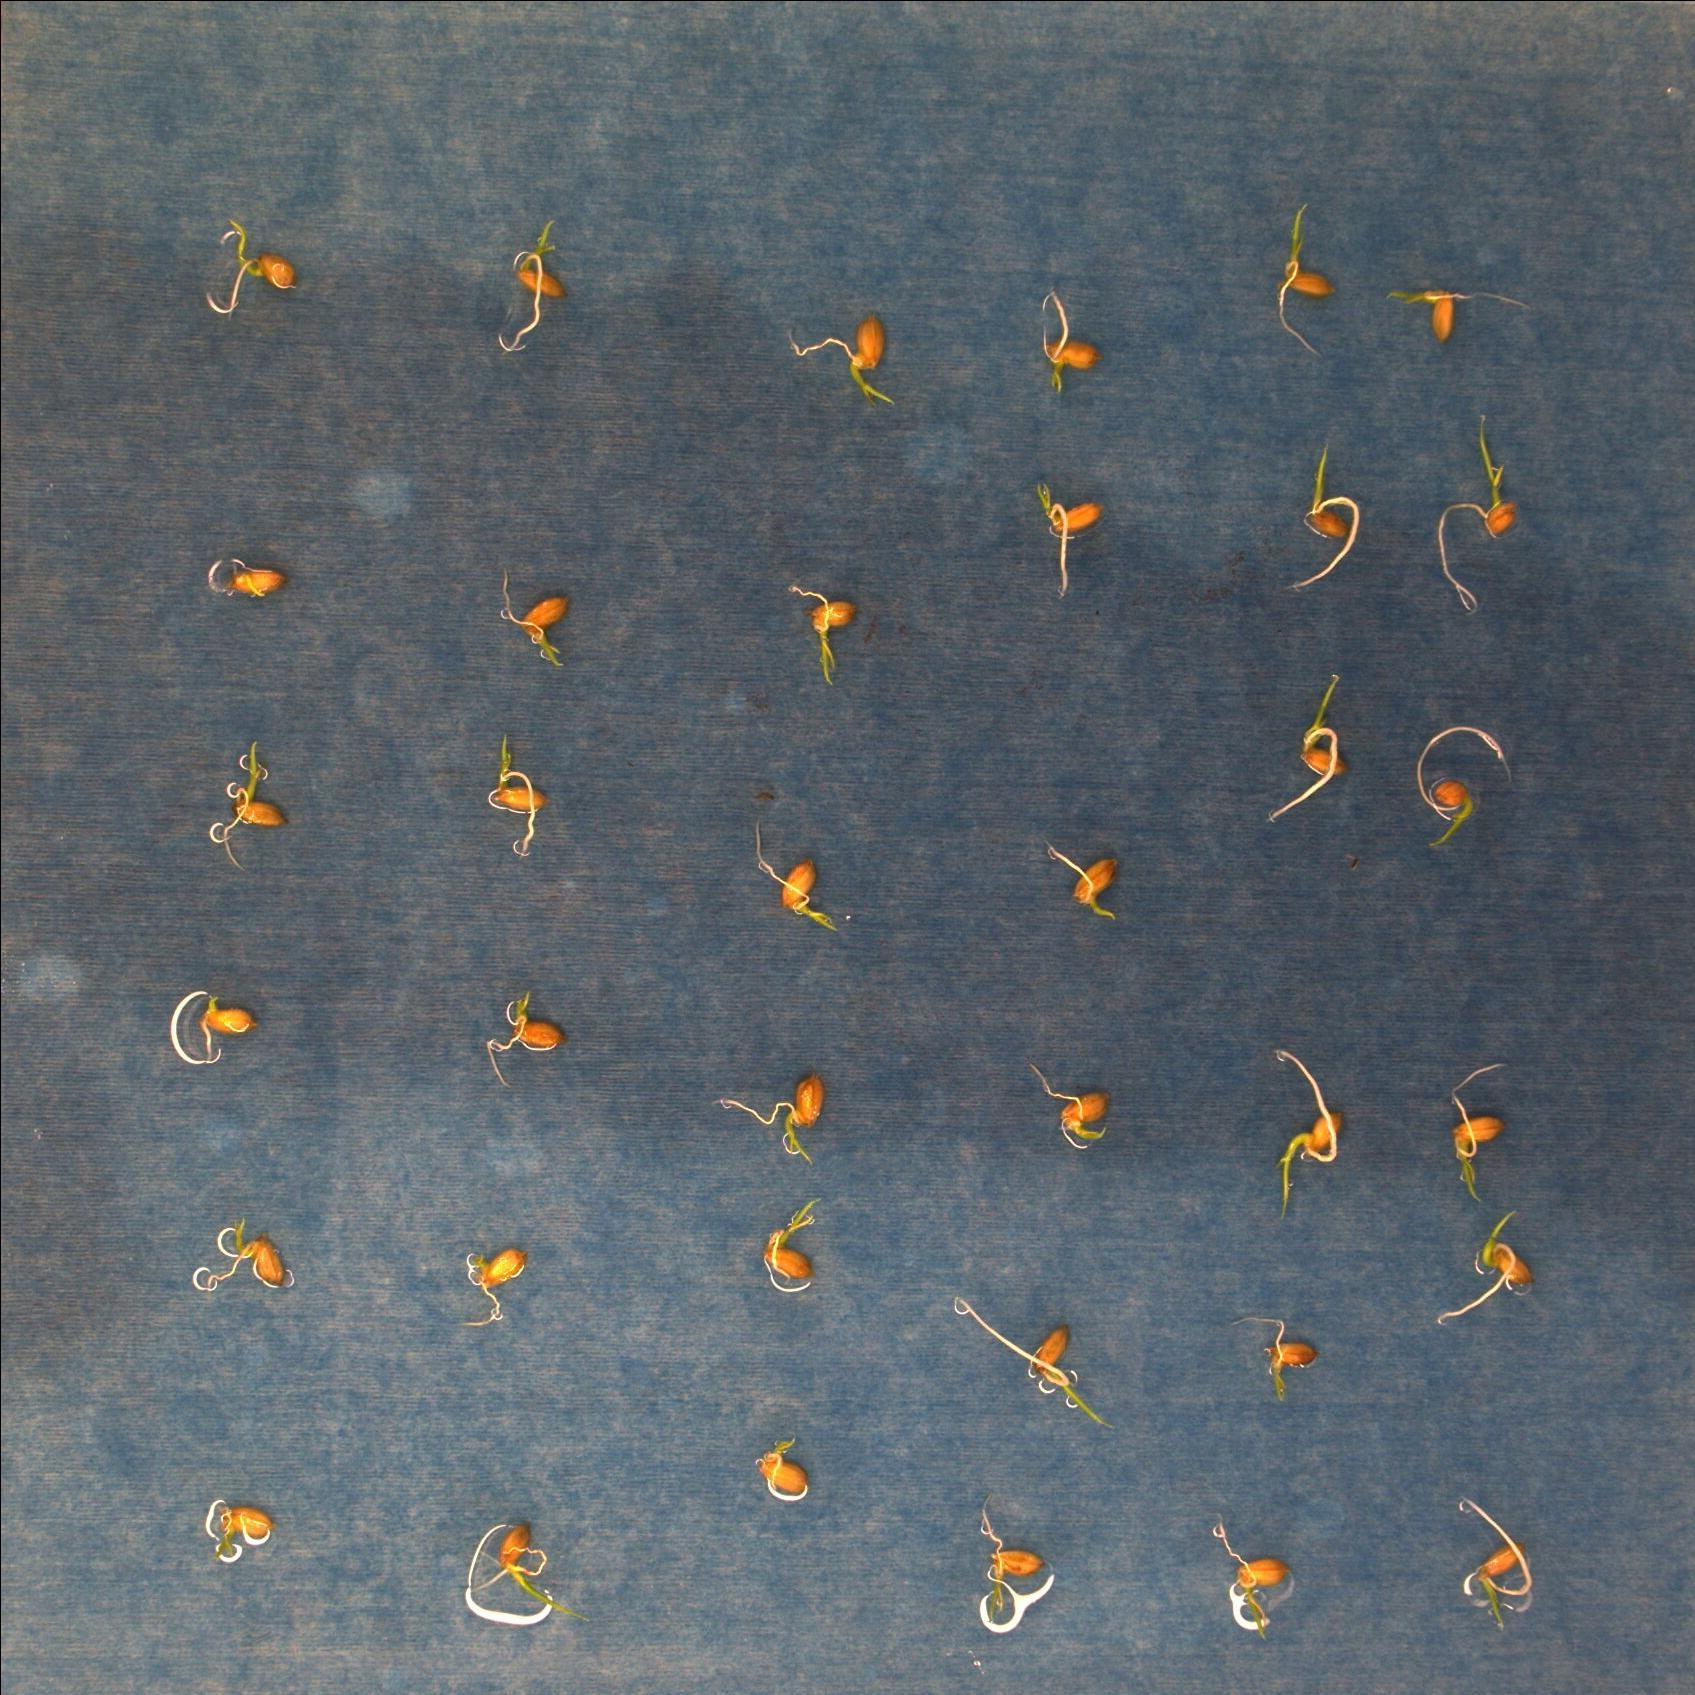not sprout: (475, 986, 574, 1093), (456, 1239, 542, 1333), (185, 993, 264, 1065), (203, 1489, 278, 1558), (750, 1430, 809, 1506), (217, 549, 287, 607)
sprout: (945, 1287, 1114, 1430), (1417, 410, 1529, 621), (1257, 664, 1358, 837), (1282, 427, 1374, 601), (1270, 1038, 1350, 1232), (467, 1506, 598, 1625), (1430, 1205, 1544, 1338), (1405, 717, 1512, 858), (773, 309, 906, 421), (705, 1063, 841, 1170), (1450, 1482, 1544, 1636), (744, 812, 849, 938), (1271, 196, 1346, 362), (1444, 1049, 1516, 1215), (964, 1498, 1057, 1627), (211, 737, 300, 872), (1205, 1513, 1291, 1648), (494, 206, 573, 349), (203, 216, 307, 318), (1397, 278, 1544, 349), (483, 734, 560, 860), (1034, 472, 1107, 601), (784, 570, 858, 694), (750, 1192, 830, 1305), (189, 1211, 296, 1295), (497, 567, 581, 674), (1029, 286, 1107, 396), (1034, 1065, 1124, 1158), (1242, 1310, 1327, 1406), (1046, 834, 1128, 931)
